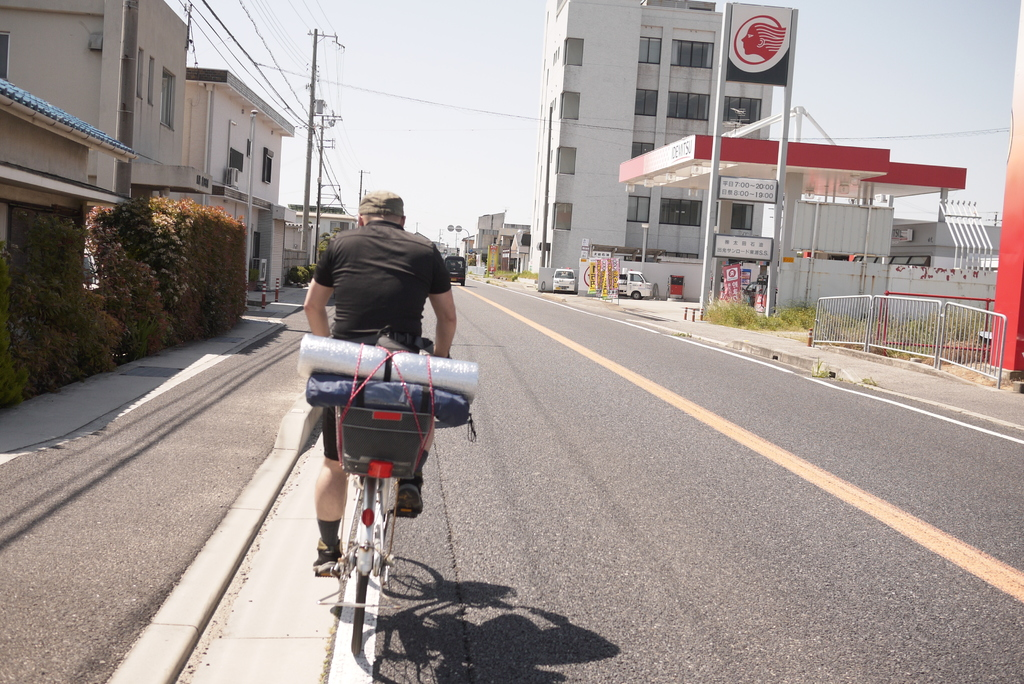Bike: (297, 336, 481, 655)
